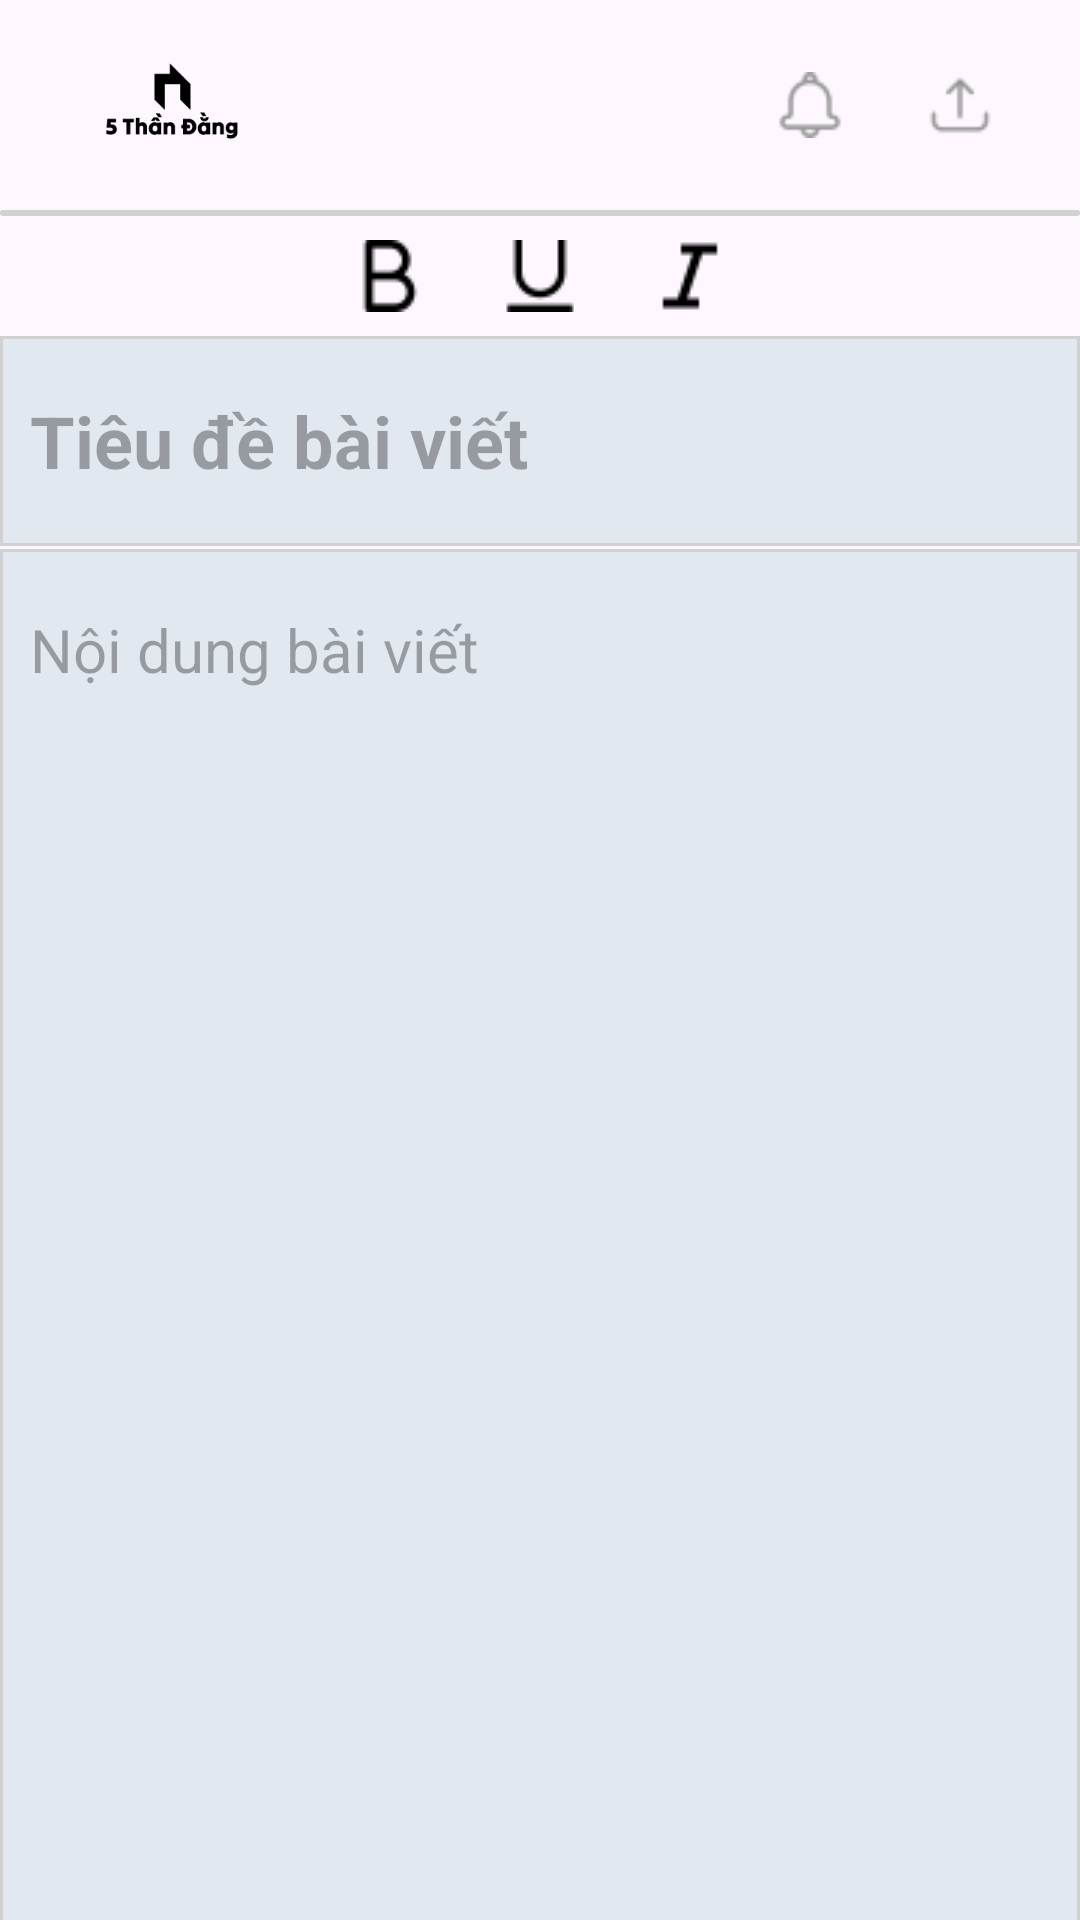

Icon click points for this 1080 × 1920 phone screenshot, format [x,y]:
italic: [690,276]
notification: [810,105]
underline: [540,276]
upload: [960,105]
